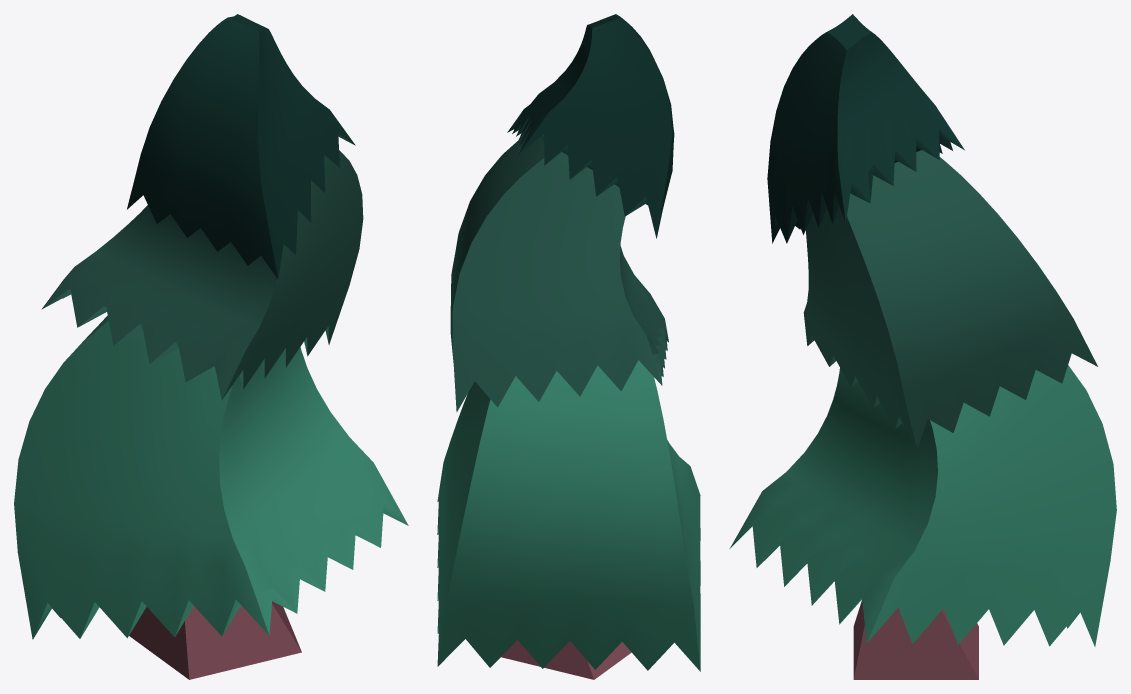
File: tree01_export.fbx
3 renders of one model, left to right at view 1: azimuth 30°, elevation 25°; view 2: azimuth 150°, elevation 25°; view 3: azimuth 270°, elevation 25°, orthographic. The views are drawn at different scales.
Parts seen in each view (by area): view 1: pCube17, pCube18, pCube19, pCube20; view 2: pCube17, pCube18, pCube19, pCube20; view 3: pCube17, pCube18, pCube19, pCube20.
Part boxes in pixels (bbox=[...]): pCube17: bbox=[14, 316, 408, 639]; pCube18: bbox=[41, 150, 363, 400]; pCube19: bbox=[127, 14, 355, 279]; pCube20: bbox=[129, 601, 301, 679]; pCube17: bbox=[437, 360, 700, 671]; pCube18: bbox=[450, 137, 668, 412]; pCube19: bbox=[507, 14, 674, 238]; pCube20: bbox=[501, 640, 631, 679]; pCube17: bbox=[729, 365, 1116, 646]; pCube18: bbox=[803, 150, 1097, 449]; pCube19: bbox=[767, 14, 964, 243]; pCube20: bbox=[853, 600, 978, 679].
Size of the model in its own units: 1.74 by 3.26 by 1.82.
